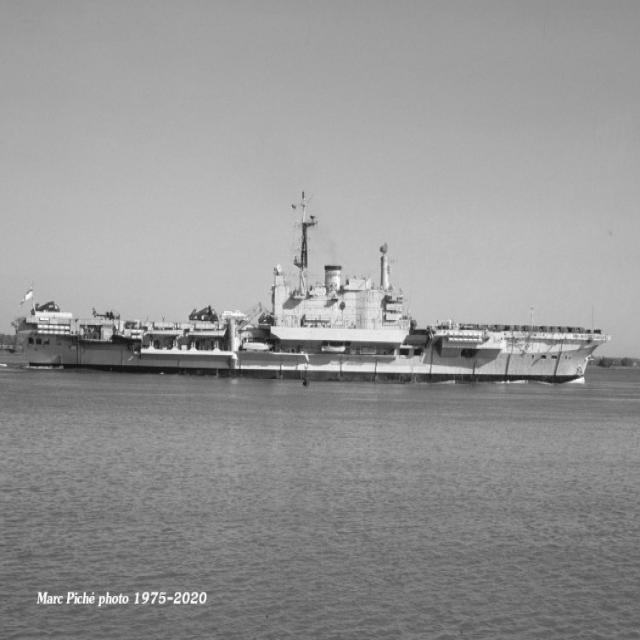Portanaves: (10, 186, 623, 398)
